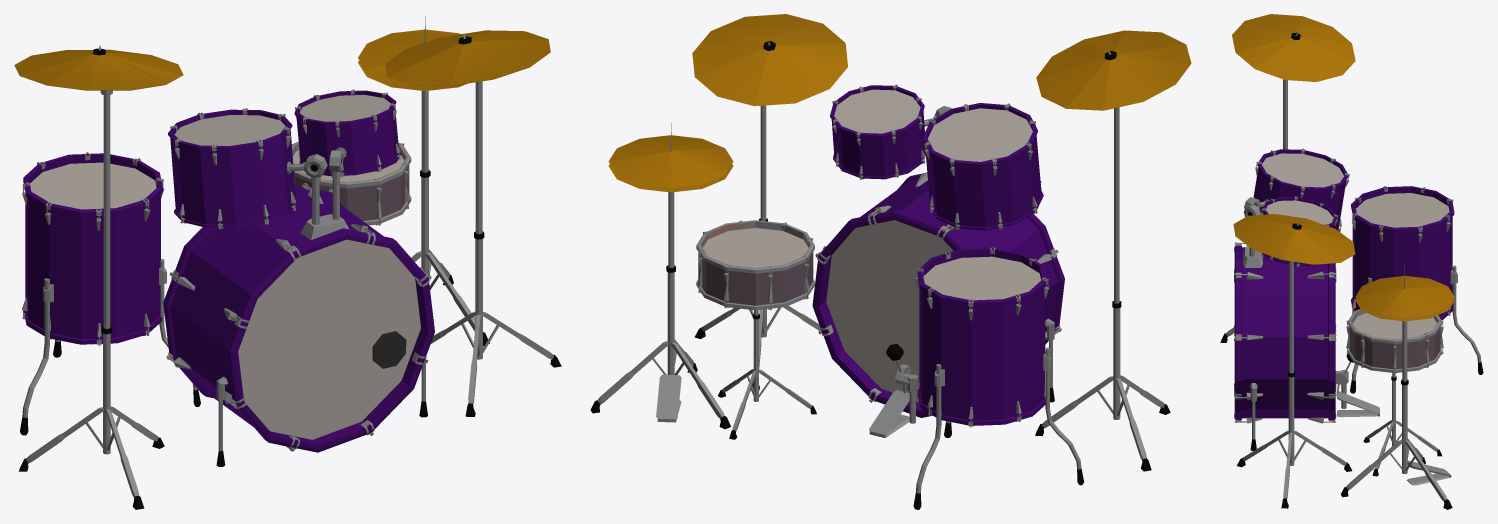
File: Drums.obj
3 renders of one model, left to right at view 1: azimuth 30°, elevation 25°; view 2: azimuth 150°, elevation 25°; view 3: azimuth 270°, elevation 25°, orthographic. The views are drawn at different scales.
Visible parts, largest first — view 1: Drums; view 2: Drums; view 3: Drums.
Boxes of the visible parts, x1,y1,x2,y2 form: Drums: (14, 16, 561, 509); Drums: (590, 14, 1191, 509); Drums: (1220, 14, 1483, 509).
Size of the model in its own units: 1.97 by 1.49 by 1.14.
